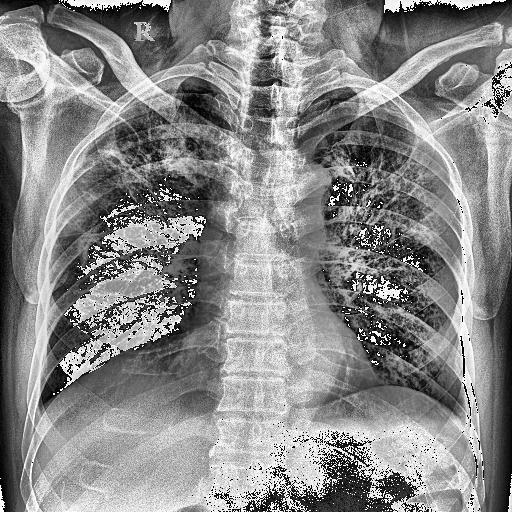11- Pleural thickening: (30, 362, 100, 412)
13- Pulmonary fibrosis: (66, 77, 216, 265), (307, 120, 445, 286), (74, 92, 222, 216), (340, 148, 431, 252), (52, 224, 112, 281)
4- Consolidation: (72, 59, 242, 227)
5- ILD: (335, 166, 429, 280)
6- Infiltration: (66, 77, 216, 265), (307, 120, 445, 286)
7- Lung Opacity: (66, 77, 216, 265), (307, 120, 445, 286), (74, 92, 222, 216), (73, 235, 93, 271)
